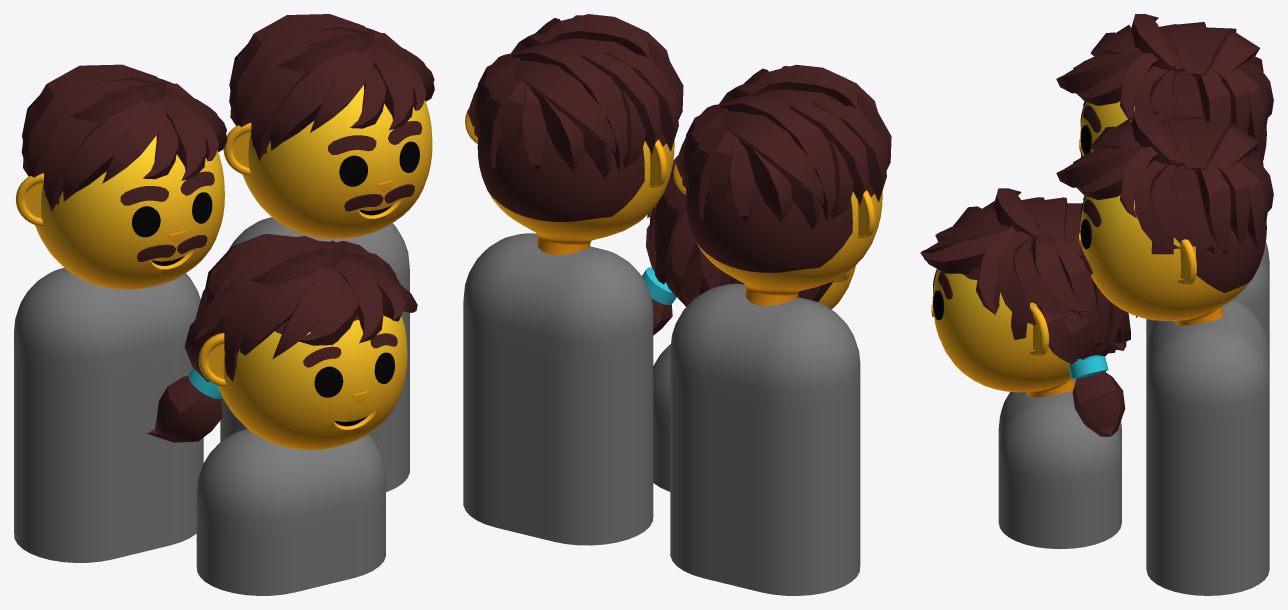
File: family_man_man_girl.glb
3 views of the same model, side by side, from view 1: azimuth 30°, elevation 25°; view 2: azimuth 150°, elevation 25°; view 3: azimuth 270°, elevation 25° (orthographic). The views are drawn at different scales.
Visible parts, largest first — view 1: Sphere.295, Sphere.294, Cube.4636, Cube.4593, Cube.4615, Roundcube.354, Roundcube.355, Roundcube.356, Sphere.296, Cube.4656, Circle.1530, Circle.1526 (+9 smaller); view 2: Sphere.296, Sphere.295, Cube.4615, Cube.4593, Roundcube.356, Roundcube.355, Cube.4636, Sphere.294, Cylinder.063, Cylinder.064, Cube.4657; view 3: Sphere.296, Cube.4615, Cube.4636, Sphere.294, Cube.4593, Roundcube.356, Roundcube.354, Cube.4656, Sphere.295, Roundcube.355, Cylinder.062, Cylinder.064 (+1 smaller).
Boxes of the visible parts, bbox=[...] form: Sphere.295: bbox=[14, 268, 203, 562]; Sphere.294: bbox=[196, 429, 385, 595]; Cube.4636: bbox=[184, 234, 417, 381]; Cube.4593: bbox=[21, 64, 227, 211]; Cube.4615: bbox=[229, 14, 434, 160]; Roundcube.354: bbox=[218, 314, 407, 450]; Roundcube.355: bbox=[35, 135, 224, 289]; Roundcube.356: bbox=[242, 85, 432, 239]; Sphere.296: bbox=[220, 217, 409, 491]; Cube.4656: bbox=[147, 376, 222, 442]; Circle.1530: bbox=[339, 141, 419, 186]; Circle.1526: bbox=[132, 192, 212, 237]; Sphere.296: bbox=[463, 233, 653, 545]; Sphere.295: bbox=[670, 283, 860, 595]; Cube.4615: bbox=[467, 14, 683, 179]; Cube.4593: bbox=[675, 64, 891, 229]; Roundcube.356: bbox=[477, 128, 674, 255]; Roundcube.355: bbox=[685, 179, 882, 306]; Cube.4636: bbox=[646, 155, 834, 311]; Sphere.294: bbox=[653, 344, 670, 491]; Cylinder.063: bbox=[673, 160, 875, 239]; Cylinder.064: bbox=[465, 108, 666, 188]; Cube.4657: bbox=[642, 267, 676, 304]; Sphere.296: bbox=[1146, 299, 1269, 595]; Cube.4615: bbox=[1056, 108, 1273, 254]; Cube.4636: bbox=[920, 188, 1137, 364]; Sphere.294: bbox=[998, 379, 1121, 549]; Cube.4593: bbox=[1056, 14, 1273, 151]; Roundcube.356: bbox=[1080, 161, 1266, 325]; Roundcube.354: bbox=[932, 250, 1079, 397]; Cube.4656: bbox=[1072, 348, 1125, 436]; Sphere.295: bbox=[1146, 242, 1269, 354]; Roundcube.355: bbox=[1080, 67, 1266, 160]; Cylinder.062: bbox=[1030, 306, 1049, 357]; Cylinder.064: bbox=[1177, 239, 1196, 286].
Bounding box in the file's own units: 2.35 × 2.58 × 1.9.
Materials: 1 (1 with a texture image).
